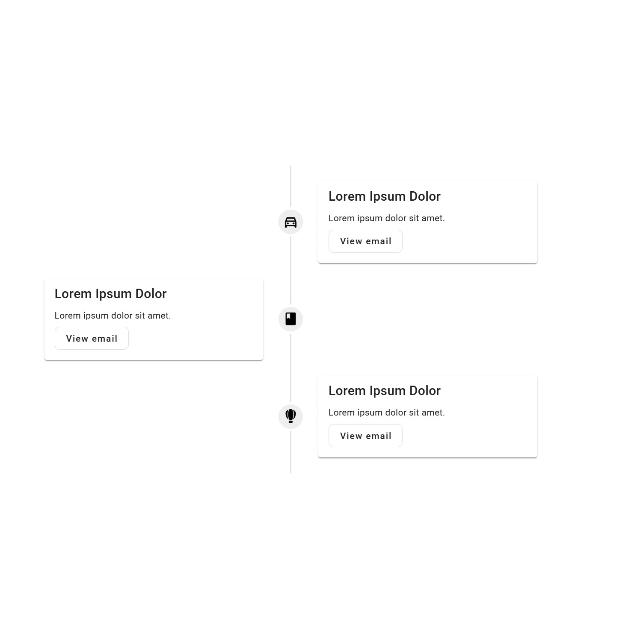VTimeline: (41, 159, 550, 477)
